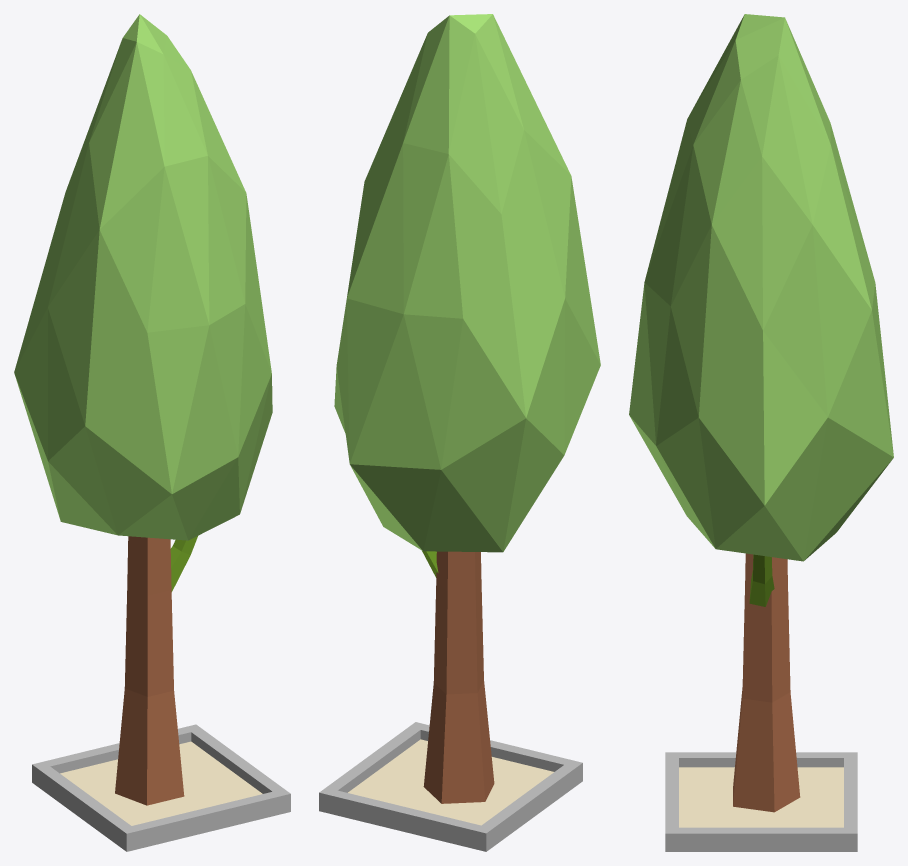
The model's file is tree2.fbx.
3 views of the same model, side by side, from view 1: azimuth 30°, elevation 25°; view 2: azimuth 150°, elevation 25°; view 3: azimuth 270°, elevation 25° (orthographic).
Visible parts, largest first — view 1: Tree_1; view 2: Tree_1; view 3: Tree_1.
Boxes of the visible parts, x1,y1,x2,y2 form: Tree_1: [14, 14, 290, 851]; Tree_1: [319, 14, 600, 851]; Tree_1: [629, 14, 893, 851].
Bounding box in the file's own units: 2.02 × 6.67 × 2.03.
1 material, 1 textured.
